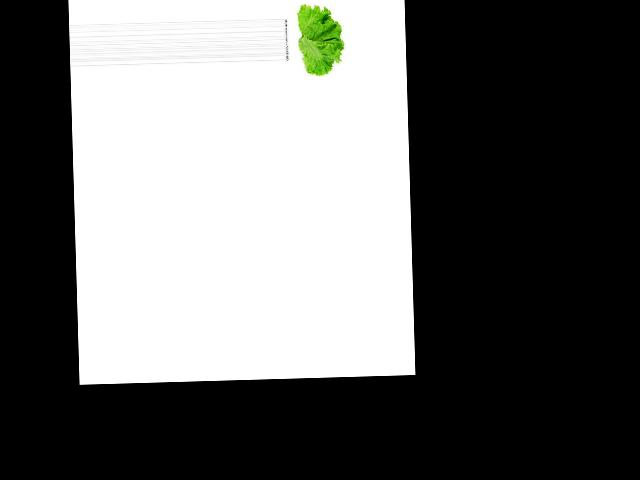lettuce: (287, 2, 345, 78)
